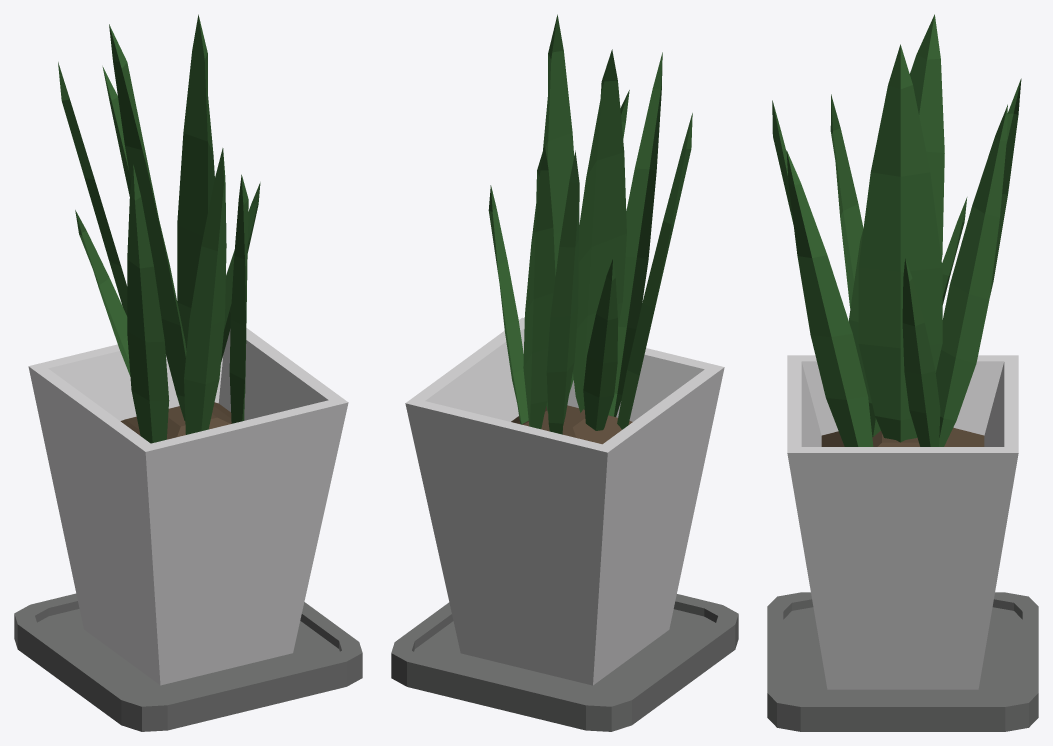
The model's file is SM_Plant_01.glb.
3 views of the same model, side by side, from view 1: azimuth 30°, elevation 25°; view 2: azimuth 150°, elevation 25°; view 3: azimuth 270°, elevation 25° (orthographic).
Visible parts, largest first — view 1: SM_Plant_01; view 2: SM_Plant_01; view 3: SM_Plant_01.
Part boxes in pixels (box(x1,y1,x2,y2)): SM_Plant_01: box(14, 14, 362, 731); SM_Plant_01: box(391, 14, 738, 731); SM_Plant_01: box(767, 14, 1038, 731).
Bounding box in the file's own units: 0.3906 × 1.01 × 0.3906.
1 material, 1 textured.
